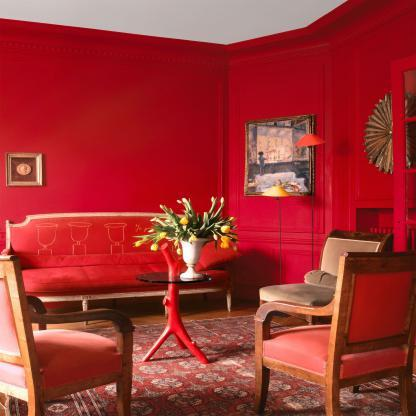chair: (249, 247, 416, 416), (0, 243, 137, 416), (255, 226, 396, 317)
door: (392, 63, 416, 251)
sofa: (3, 209, 247, 319)
table: (128, 269, 214, 361)
